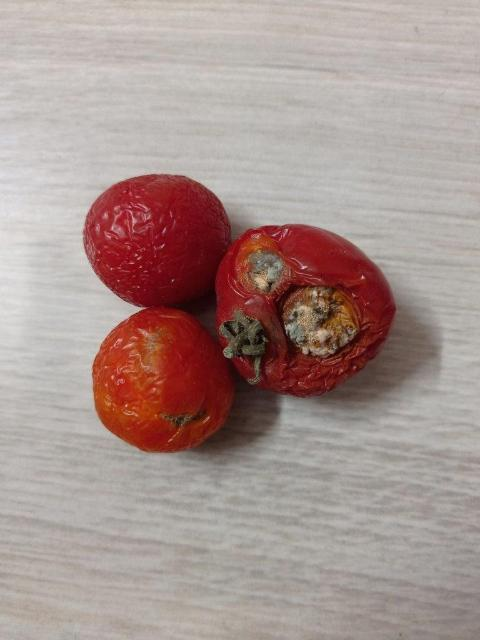defect: (210, 220, 396, 396), (89, 310, 238, 455)
